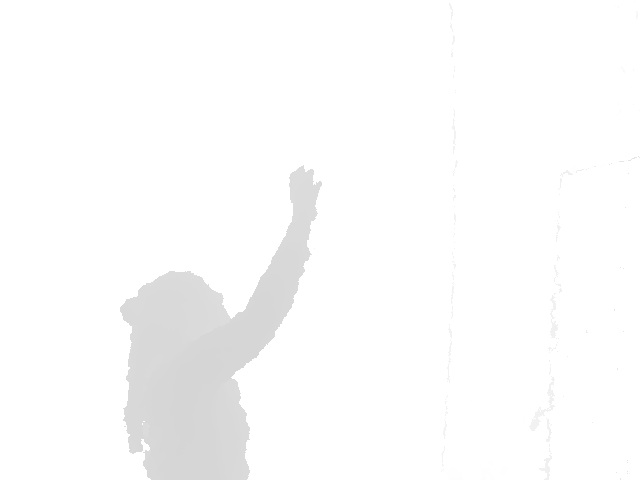hand: (287, 165, 322, 223)
head: (118, 268, 232, 331)
person: (119, 165, 323, 480)
